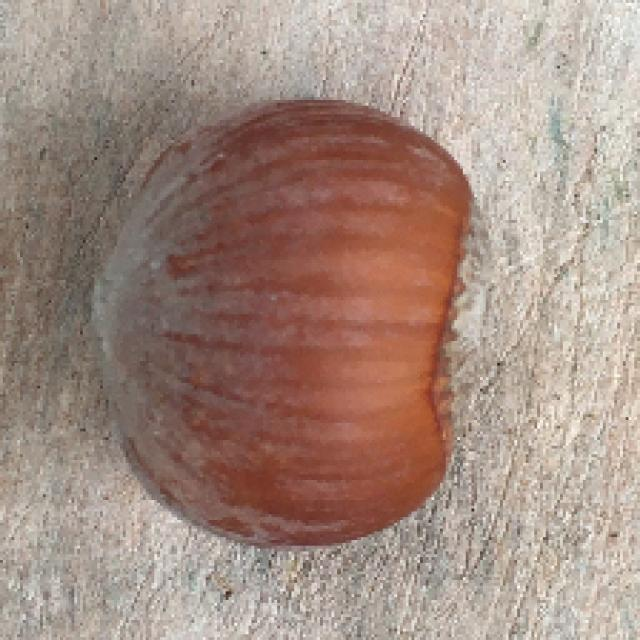qualityHazelnut: (92, 95, 496, 552)
